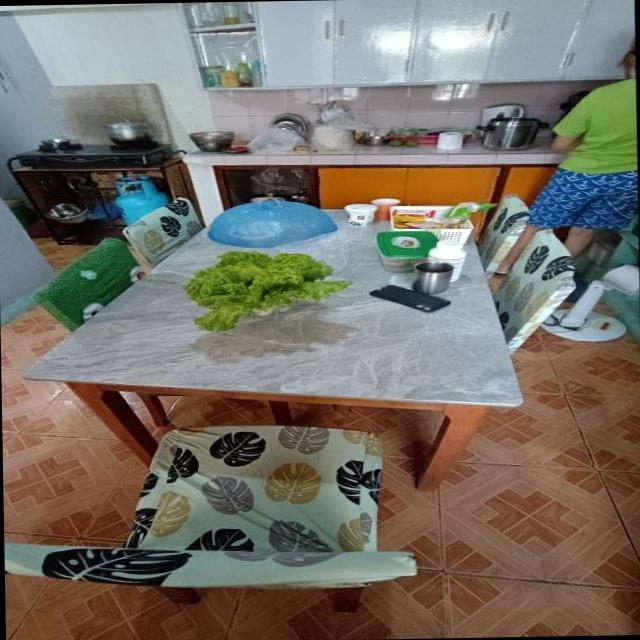Lettuce-Ready-to-Harvest: (184, 250, 348, 331)
